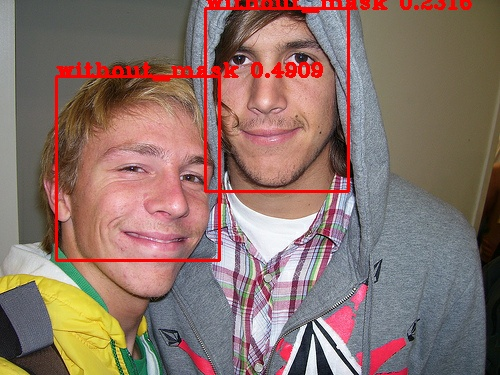without_mask: (45, 82, 222, 304), (192, 2, 371, 199)
